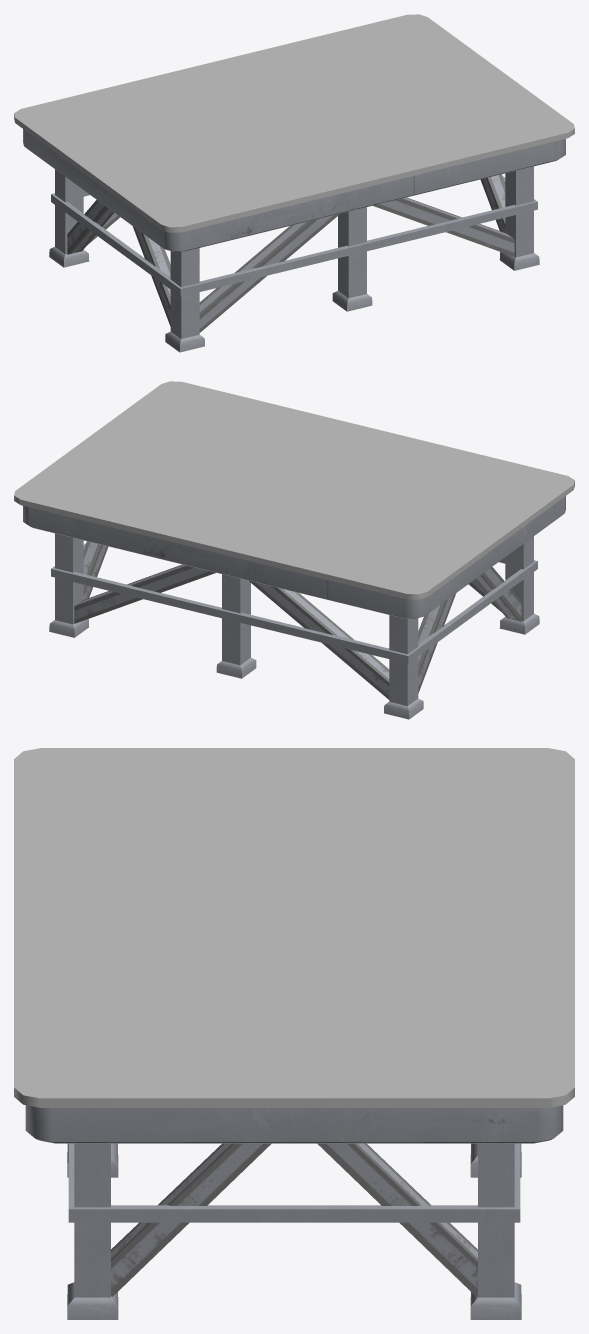
Rendered from Fbx_Props_LabEq_Table.fbx.
The picture shows the model from 3 angles, top to bottom: view 1: azimuth 30°, elevation 25°; view 2: azimuth 150°, elevation 25°; view 3: azimuth 270°, elevation 25°; orthographic projection. The views are drawn at different scales.
Parts seen in each view (by area): view 1: pCube34, pCube38, pCube42, pCube35, pCube50, pCube51, pCube48, pCube54, pCube55; view 2: pCube34, pCube38, pCube43, pCube54, pCube53, pCube52, pCube48, pCube35, pCube55; view 3: pCube34, pCube55, pCube38, pCube51, pCube52.
Part boxes in pixels (box(x1,y1,x2,y2)): pCube34: box(14, 14, 574, 251); pCube38: box(51, 176, 537, 296); pCube42: box(199, 197, 514, 332); pCube35: box(165, 248, 204, 352); pCube50: box(332, 207, 372, 311); pCube51: box(499, 166, 539, 270); pCube48: box(67, 200, 170, 326); pCube54: box(49, 169, 89, 267); pCube55: box(480, 174, 505, 232); pCube34: box(14, 381, 574, 618); pCube38: box(51, 543, 537, 663); pCube43: box(74, 564, 389, 699); pCube54: box(384, 615, 423, 719); pCube53: box(216, 574, 256, 678); pCube52: box(49, 533, 89, 637); pCube48: box(418, 567, 521, 693); pCube35: box(499, 536, 539, 634); pCube55: box(83, 541, 108, 599); pCube34: box(14, 748, 574, 1143); pCube55: box(111, 1143, 477, 1296); pCube38: box(68, 1143, 520, 1222); pCube51: box(67, 1143, 118, 1319); pCube52: box(470, 1143, 521, 1319).
Bounding box in the file's own units: 308 × 100 × 209.
